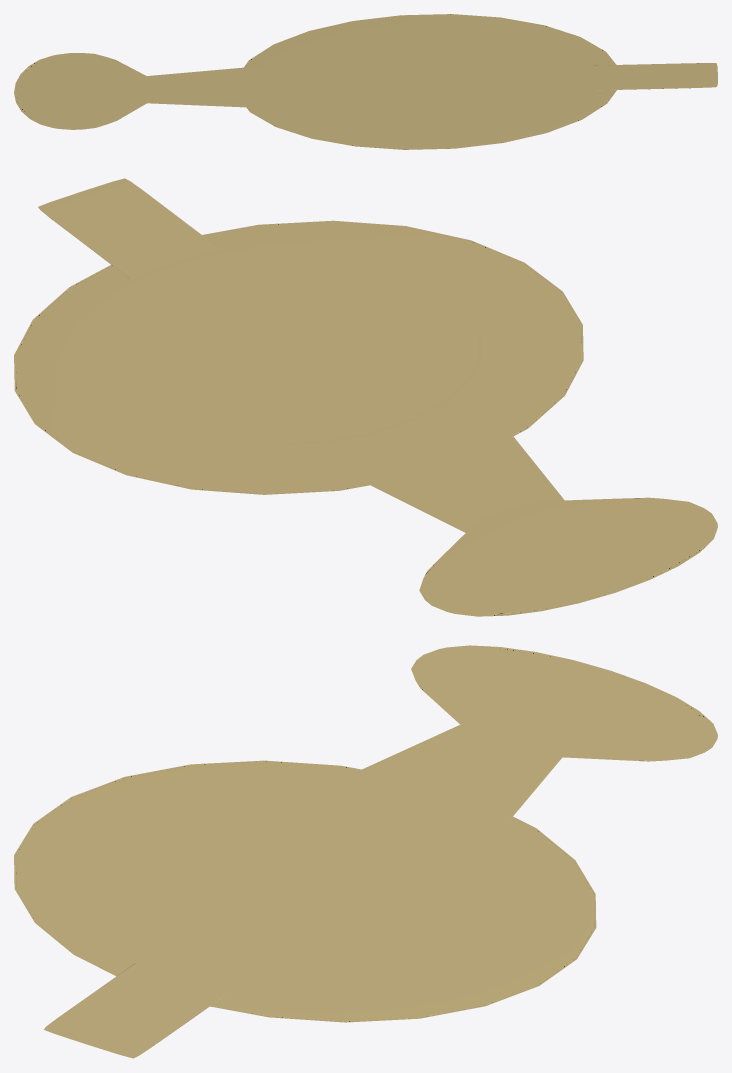
Rendered from WateringCan-Simple Shadow.fbx.
3 renders of one model, top to bottom at view 1: azimuth 30°, elevation 25°; view 2: azimuth 150°, elevation 25°; view 3: azimuth 270°, elevation 25°, orthographic. The views are drawn at different scales.
Parts seen in each view (by area): view 1: WateringCan-Simple Shadow; view 2: WateringCan-Simple Shadow; view 3: WateringCan-Simple Shadow.
Boxes of the visible parts, left/top/right/bottom form: WateringCan-Simple Shadow: left=14, top=14, right=717, bottom=149; WateringCan-Simple Shadow: left=14, top=178, right=717, bottom=616; WateringCan-Simple Shadow: left=14, top=645, right=717, bottom=1058.
Bounding box in the file's own units: 16.81 × 0.8062 × 11.89.
